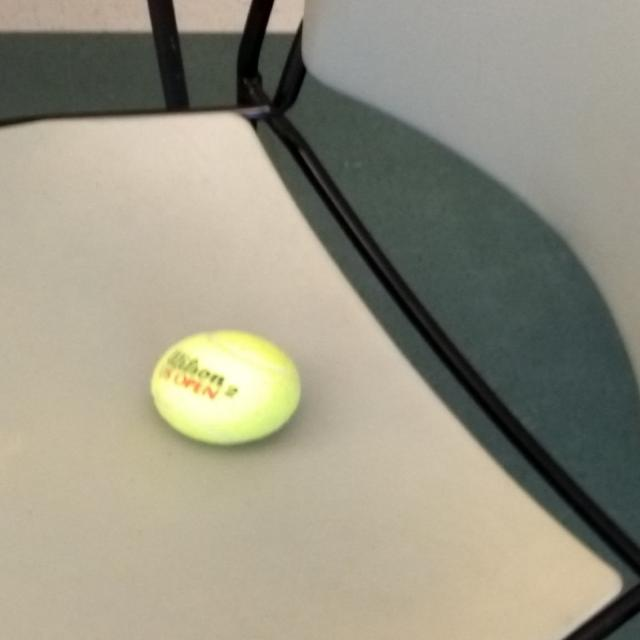Tennis-Ball: (152, 317, 306, 461)
